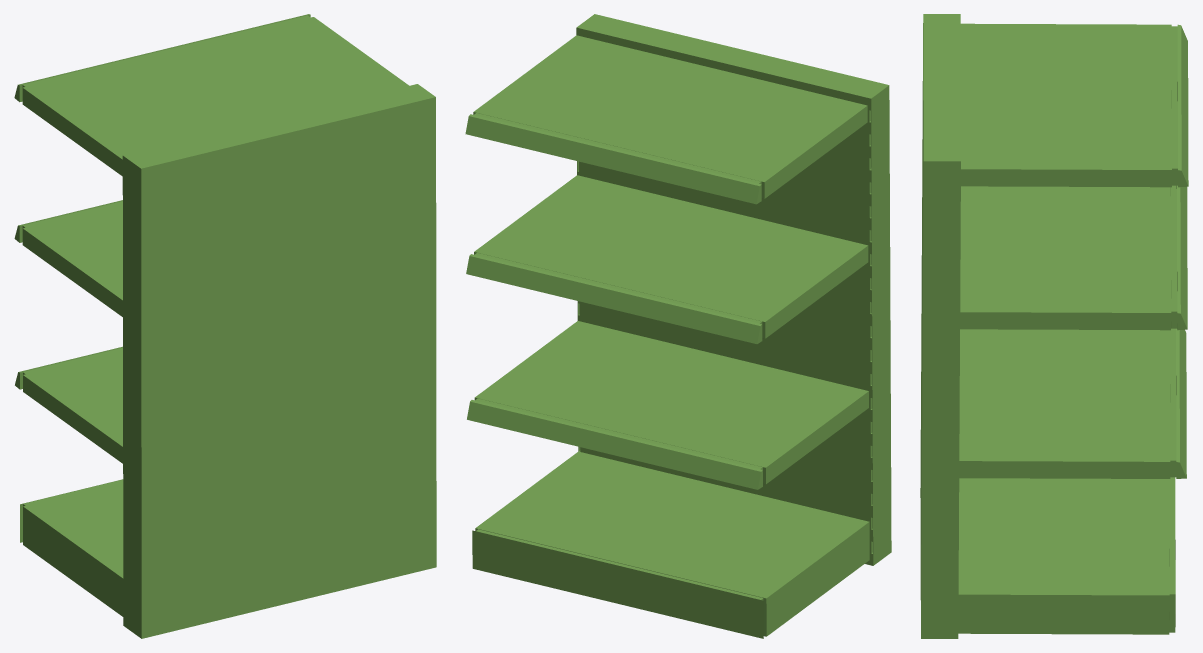
Rendered from bottleshelf.fbx.
The picture shows the model from 3 angles, left to right: view 1: azimuth 30°, elevation 25°; view 2: azimuth 150°, elevation 25°; view 3: azimuth 270°, elevation 25°; orthographic projection. The views are drawn at different scales.
Parts seen in each view (by area): view 1: polySurface247; view 2: polySurface247; view 3: polySurface247.
Boxes of the visible parts, <box> form: polySurface247: <box>14,14,436,638</box>; polySurface247: <box>465,14,891,638</box>; polySurface247: <box>920,14,1188,638</box>.
Bounding box in the file's own units: 59.49 × 90.24 × 45.8.
